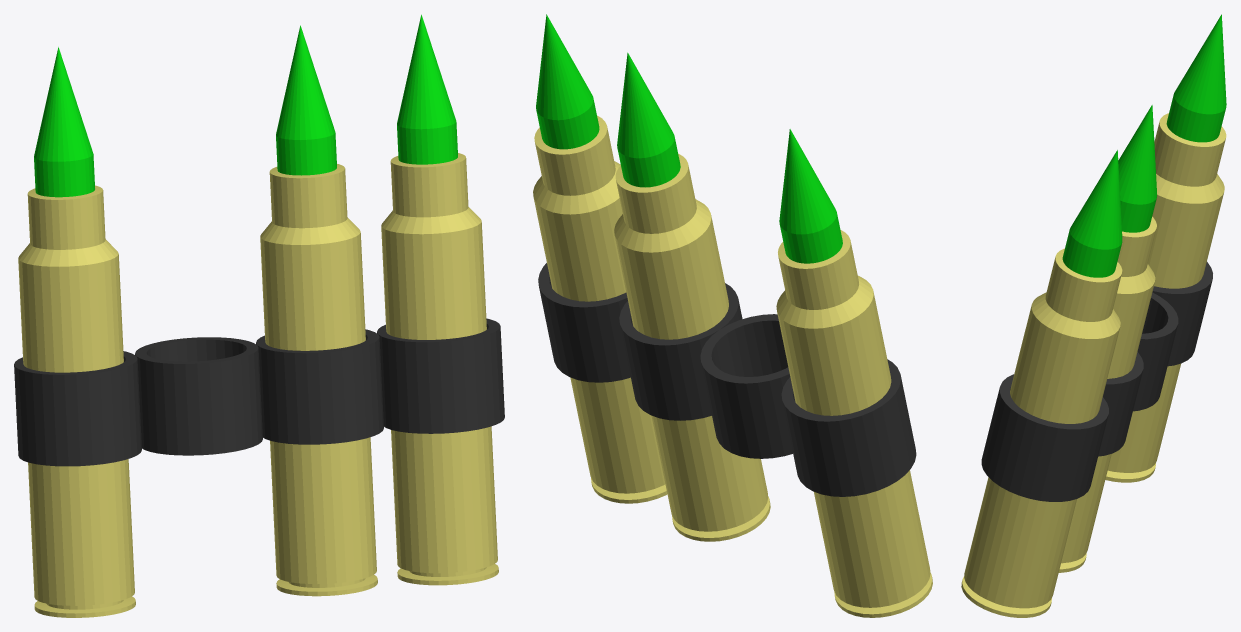
Rendered from PlutoniumRounds.fbx.
3 views of the same model, side by side, from view 1: azimuth 30°, elevation 25°; view 2: azimuth 150°, elevation 25°; view 3: azimuth 270°, elevation 25° (orthographic). The views are drawn at different scales.
Parts seen in each view (by area): view 1: Cases; view 2: Cases; view 3: Cases.
Boxes of the visible parts, bbox=[...] form: Cases: bbox=[14, 14, 504, 617]; Cases: bbox=[533, 14, 932, 617]; Cases: bbox=[961, 14, 1226, 617].
Bounding box in the file's own units: 1064 × 1254 × 642.
Materials: 1 (1 with a texture image).
